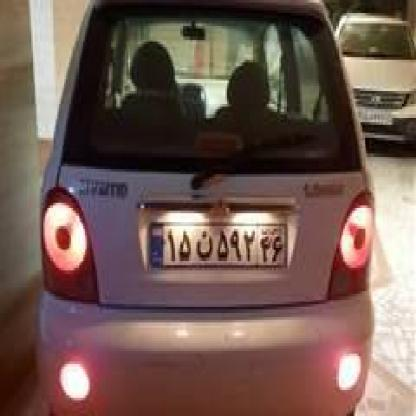Car: (28, 0, 371, 416), (324, 0, 416, 156)
